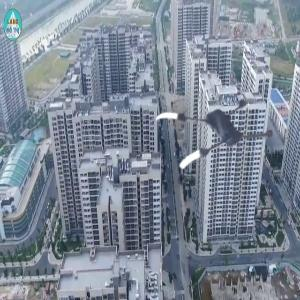drone: (155, 76, 275, 196)
